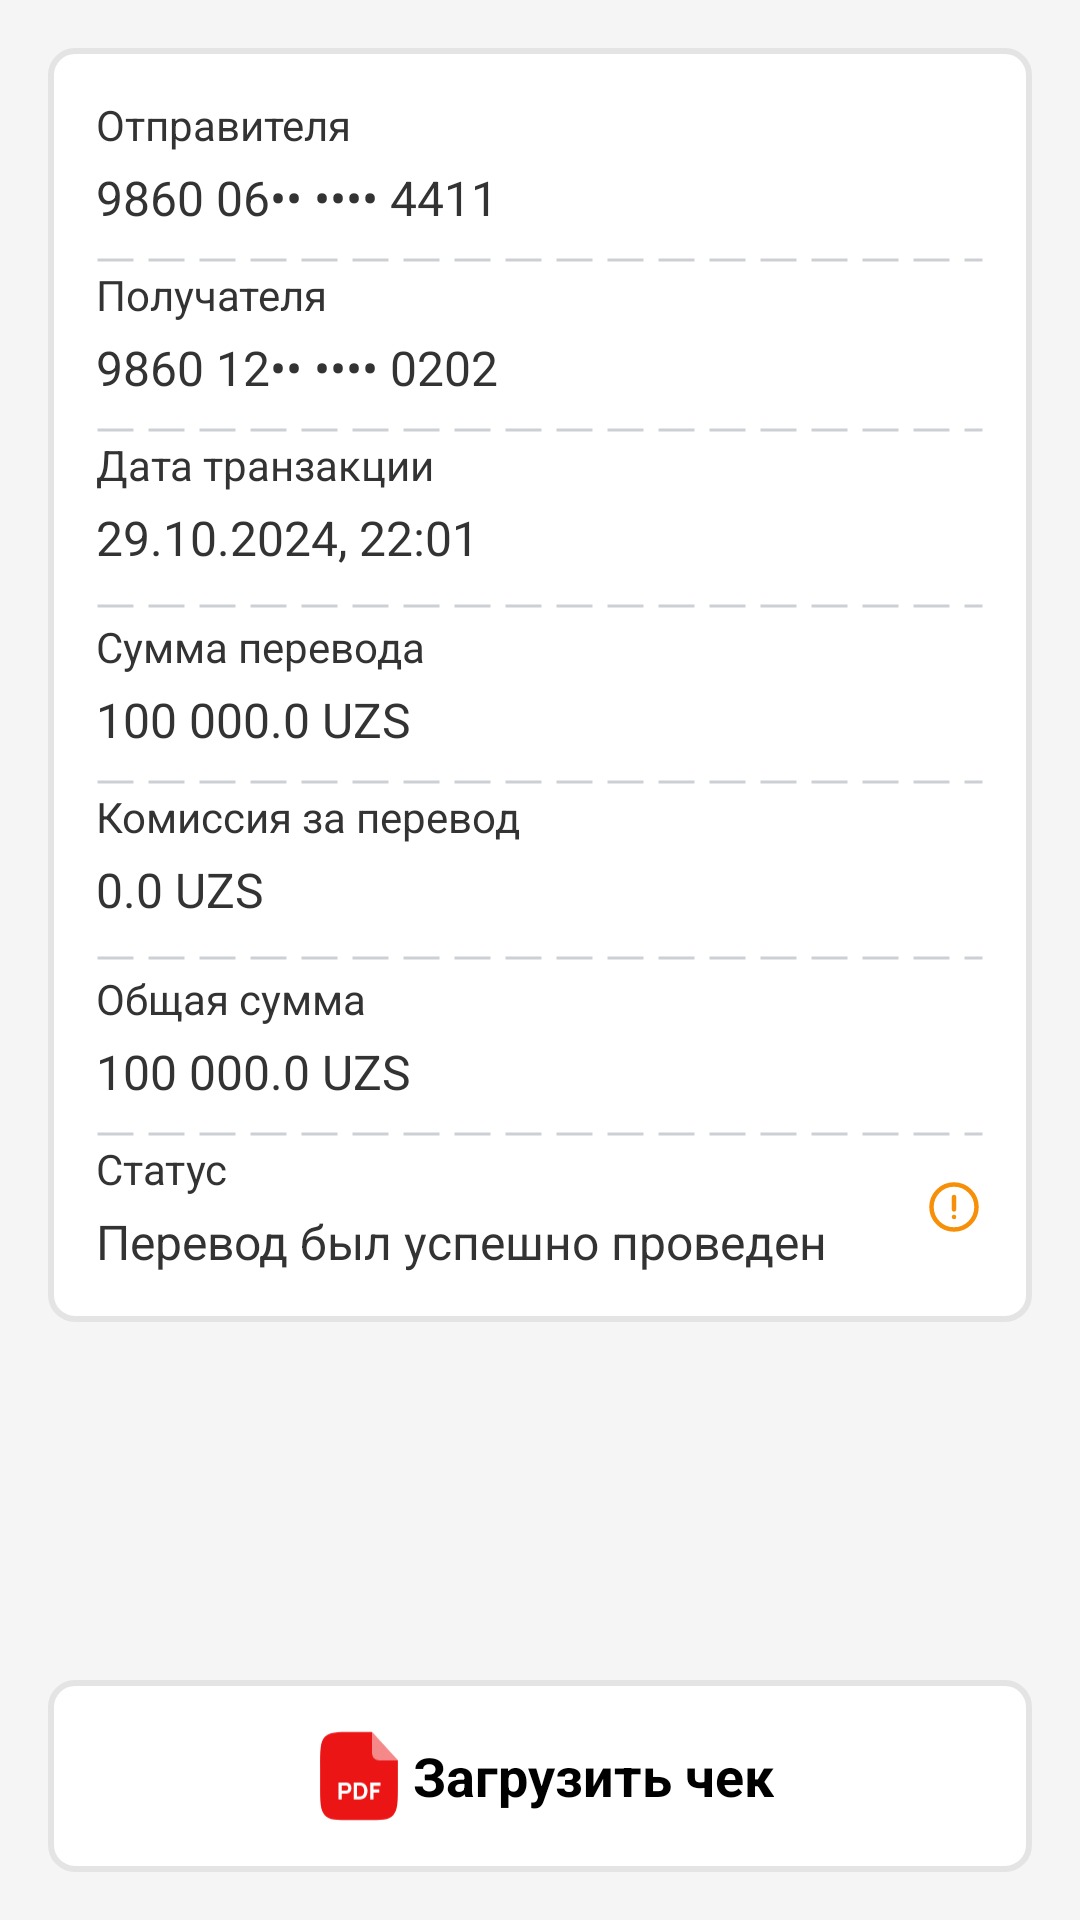

Point at icon controls on the screen. Image size 1080x1920, points as (x=x, y=y).
circle exclamation: (x=954, y=1207)
